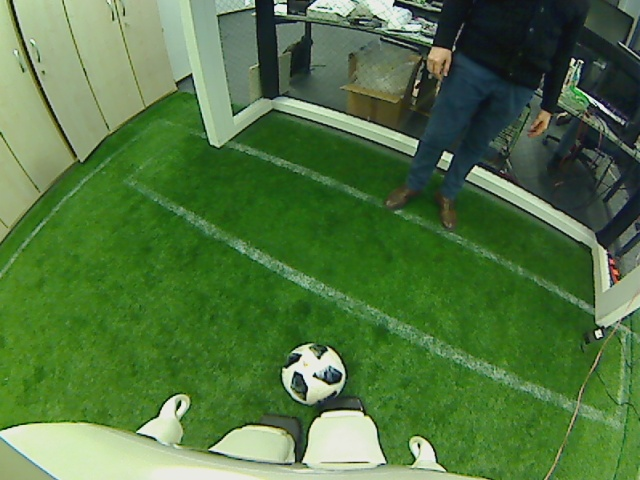ball: (279, 339, 347, 407)
